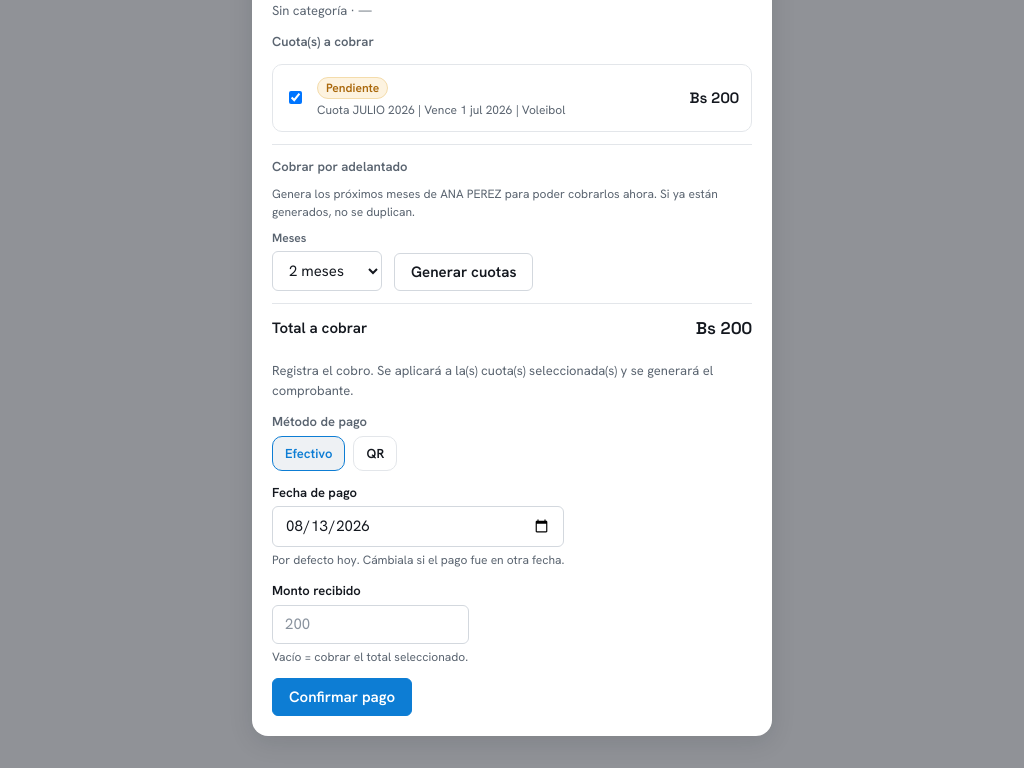
RegistrarPago — aviso de sobrepago › tras registrar, "Registrar otro pago" vuelve al formulario sin cerrar
This screenshot has width=1024, height=768.
(page scrolled)
expect the number field labelled "Monto recibido" is shown: met, box [272,605,469,644]
What coordinates should you click on to do the following:
click the button "Confirmar pago"
I would click on:
 (342, 697)
Its box is [272,678,412,716].
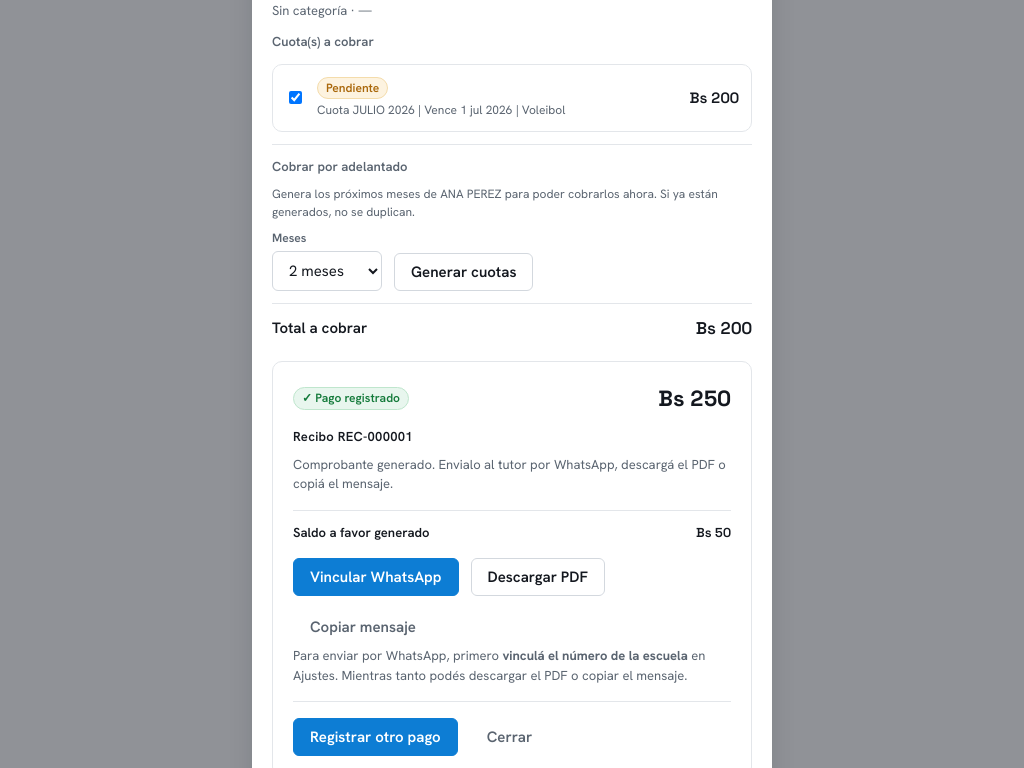
expect the text "✓ Pago registrado" is shown: met, box [293,387,409,410]
# Al pulsarlo, vuelve el formulario (botón Confirmar) y desaparece el comprobante.
What coordinates should you click on to do the following:
click the button "Registrar otro pago"
I would click on:
 (375, 737)
Its box is [293,718,458,756].
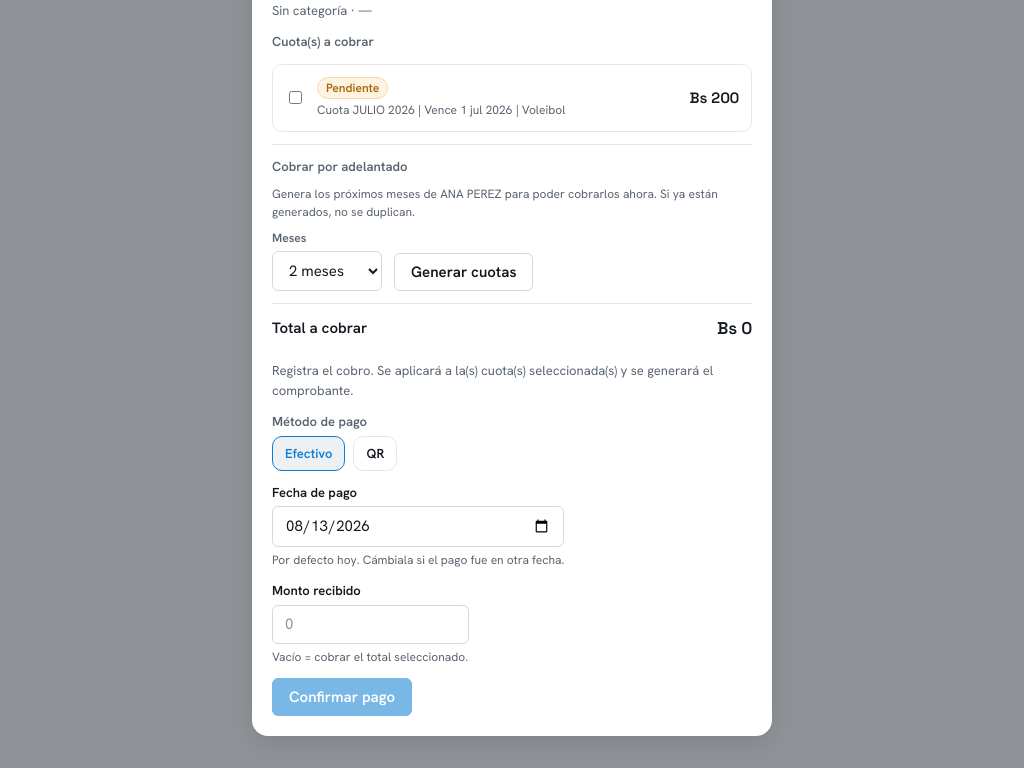
expect the button "Confirmar pago" is shown: met, box [272,678,412,716]
expect the button "Registrar otro pago" is gone: met
